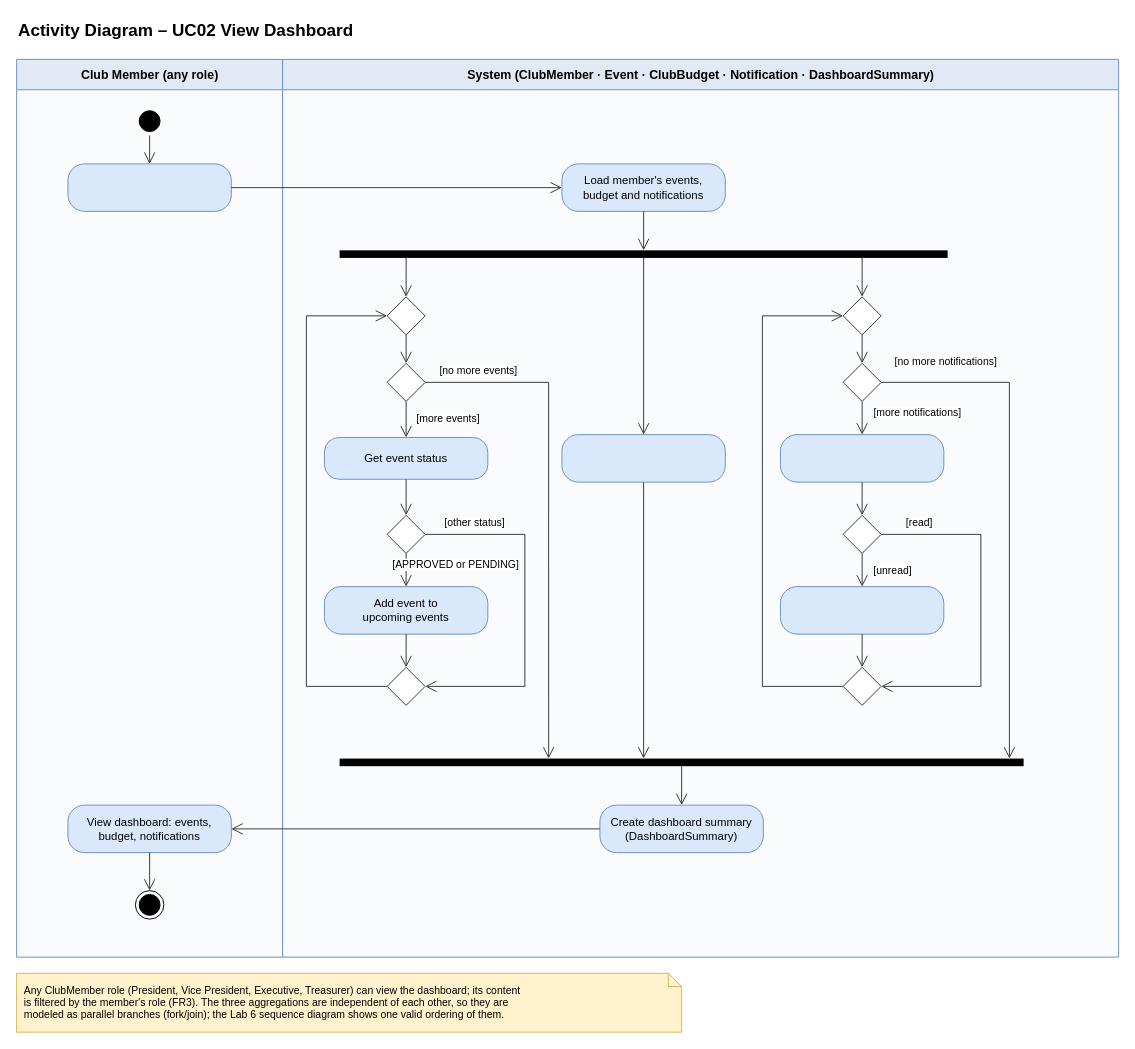
Some shapes in this 1135 by 1049 pixel diagram are drawn without their labels. Each missing label, with the centre of its shape:
"Add to recent notifications" belongs at [861,610].
"Check whether notification is unread" belongs at [861,458].
"Get remaining club budget balance" belongs at [643,458].
"Open dashboard (already logged in)" belongs at [149,187].
